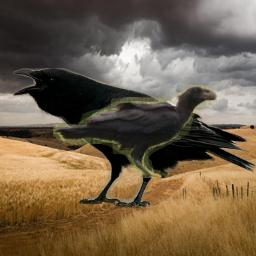Crow: (13, 68, 256, 210), (53, 85, 219, 178)
